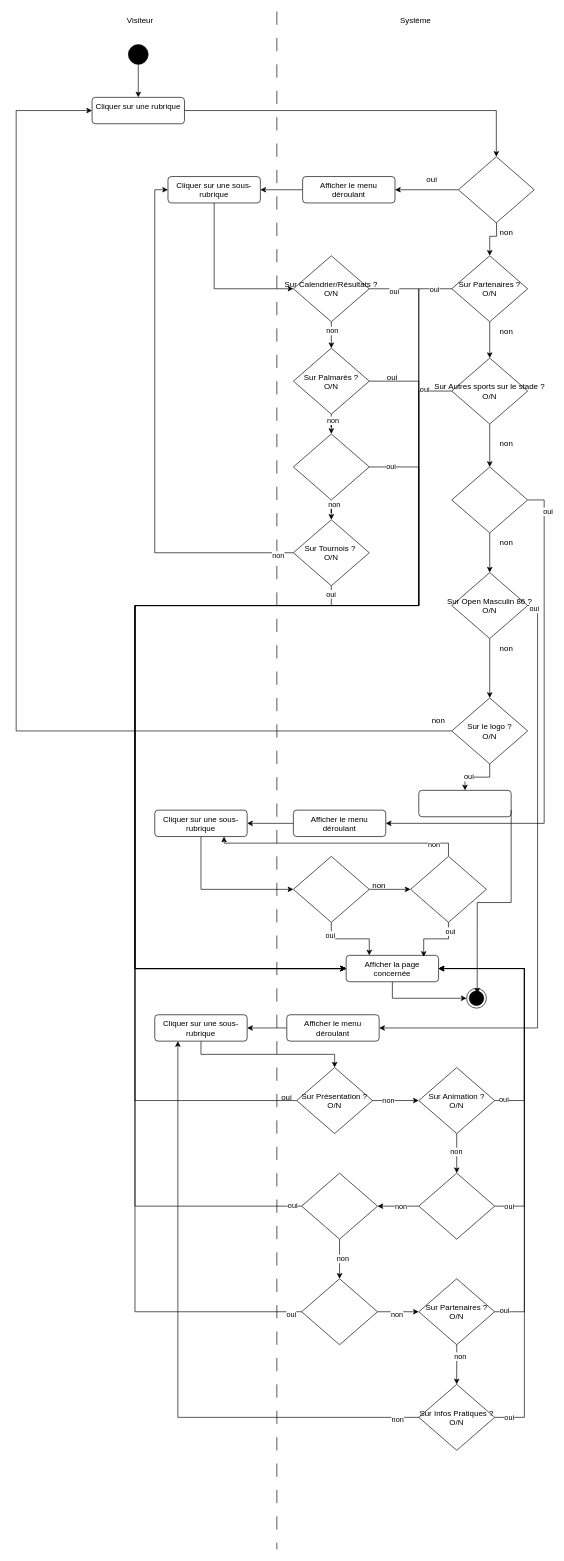
This 564x1561 diagram has some shape labels left out. Each missing label, with the centre of its shape:
"Rediriger vers la page d'acceuil" belongs at [464,803].
"Sur Compétitions ? O/N" belongs at [496,189].
"Sur Ecole de Tennis ? O/N" belongs at [448,889].
"Sur Edito ? O/N" belongs at [339,1205].
"Sur Formation ? O/N" belongs at [489,499].
"Sur Programme du jour ? O/N" belongs at [456,1205].
"Sur Tableaux ? O/N" belongs at [339,1311].
"Sur tarifications ? O/N" belongs at [331,889].
"Sur Tournois internes ? O/N" belongs at [331,466].
